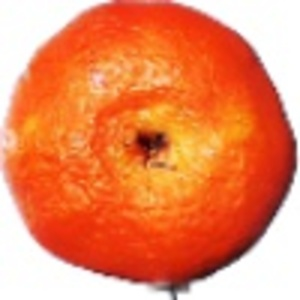tangerina: (1, 1, 299, 300)
